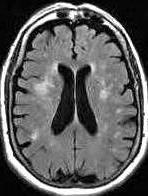Normal_Brain: (1, 2, 147, 196)
